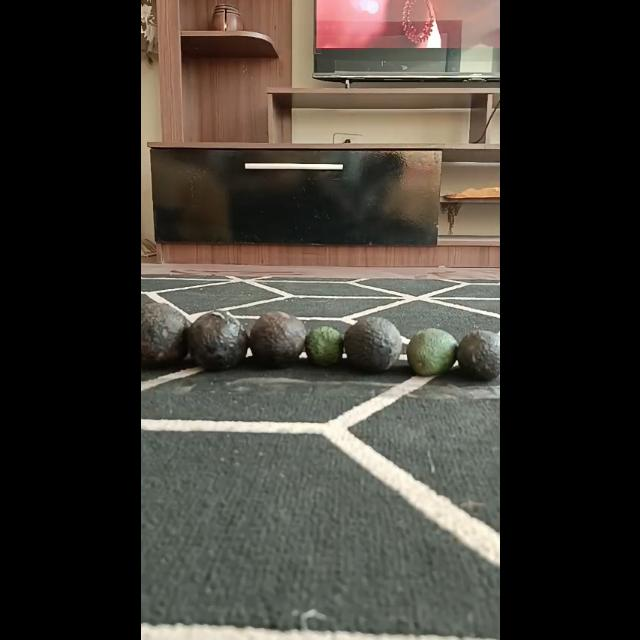Primera: (186, 310, 248, 370), (343, 316, 401, 372), (140, 302, 190, 366), (248, 312, 306, 366)
Segunda: (406, 328, 458, 377), (454, 330, 498, 380)
Tercera: (303, 326, 343, 366)
